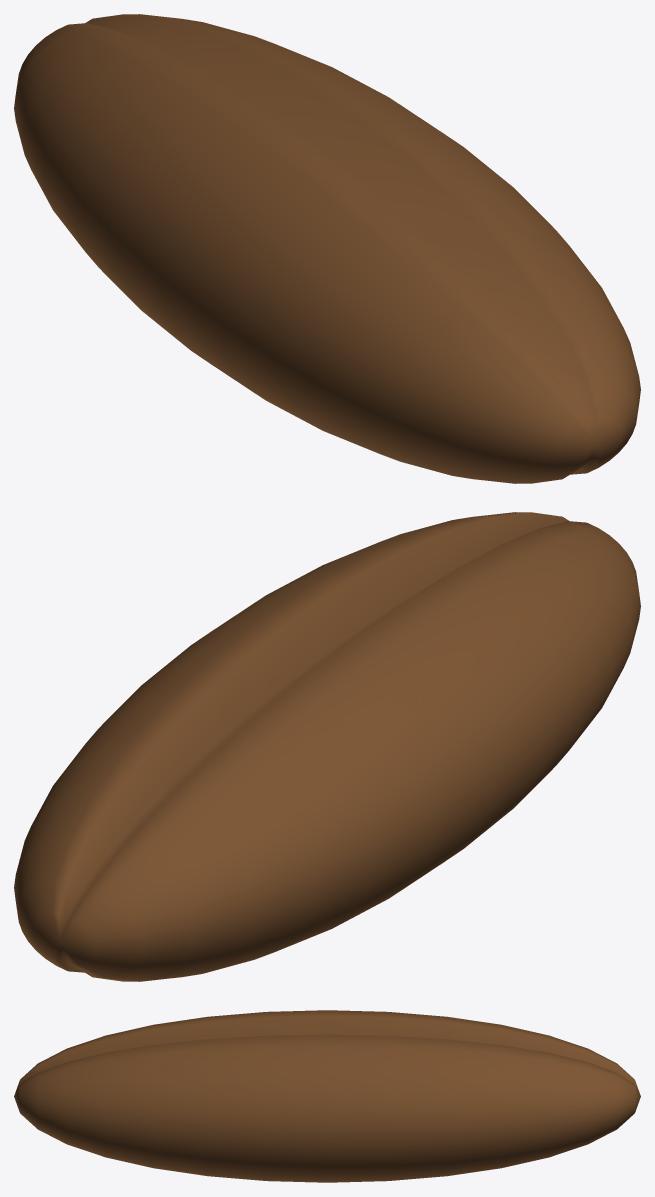
The model's file is Wheat_Seed.fbx.
3 renders of one model, top to bottom at view 1: azimuth 30°, elevation 25°; view 2: azimuth 150°, elevation 25°; view 3: azimuth 270°, elevation 25°, orthographic. The views are drawn at different scales.
Parts seen in each view (by area): view 1: Wheat_Seed.001; view 2: Wheat_Seed.001; view 3: Wheat_Seed.001.
Boxes of the visible parts, box(x1,y1,x2,y2) form: Wheat_Seed.001: box(14, 14, 640, 483); Wheat_Seed.001: box(14, 512, 640, 981); Wheat_Seed.001: box(14, 1010, 640, 1182).
Size of the model in its own units: 8.87 by 6.28 by 25.1.
